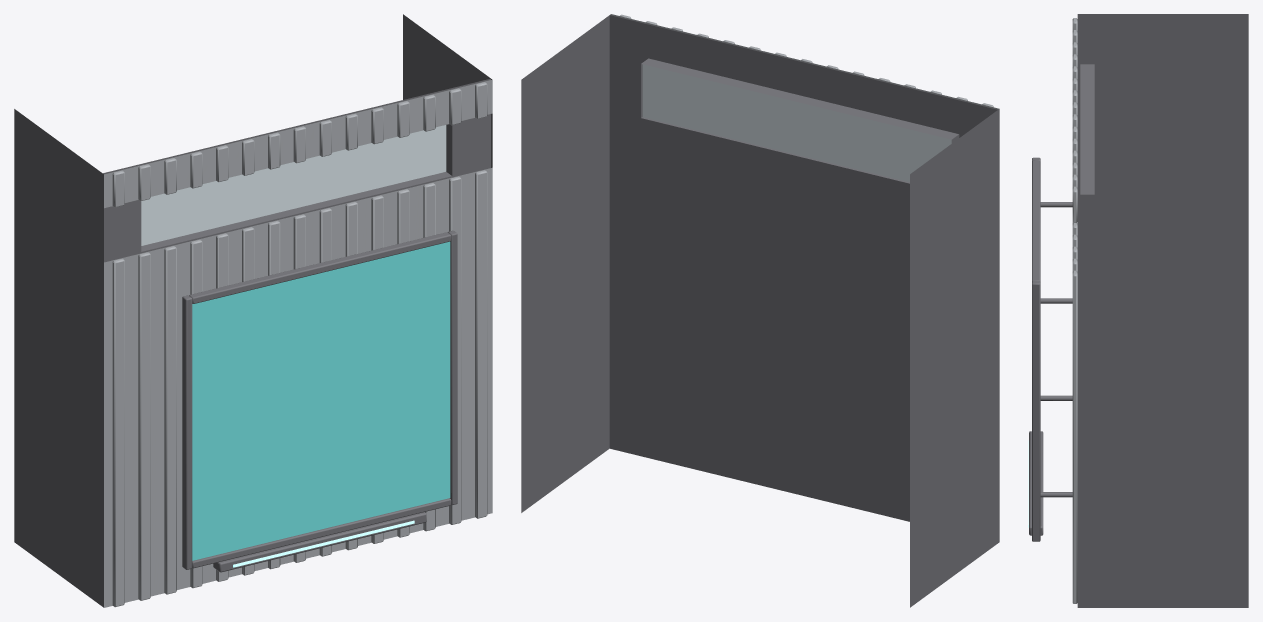
Rendered from retro_upper_3c.glb.
3 renders of one model, left to right at view 1: azimuth 30°, elevation 25°; view 2: azimuth 150°, elevation 25°; view 3: azimuth 270°, elevation 25°, orthographic. The views are drawn at different scales.
Parts seen in each view (by area): view 1: retro_upper_3c; view 2: retro_upper_3c; view 3: retro_upper_3c.
Part boxes in pixels (x1,y1,x2,y2): retro_upper_3c: [14, 14, 492, 607]; retro_upper_3c: [521, 14, 999, 607]; retro_upper_3c: [1028, 14, 1248, 607].
Size of the model in its own units: 3 by 3.2 by 1.55.
